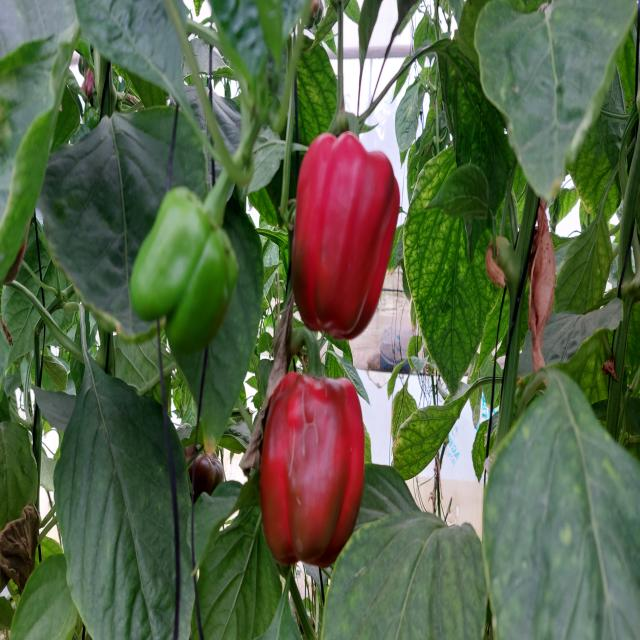Green--Not-ready-to-harvest: (148, 192, 238, 349)
Red-Ready-to-Harvest: (295, 123, 400, 337), (267, 373, 361, 558)
